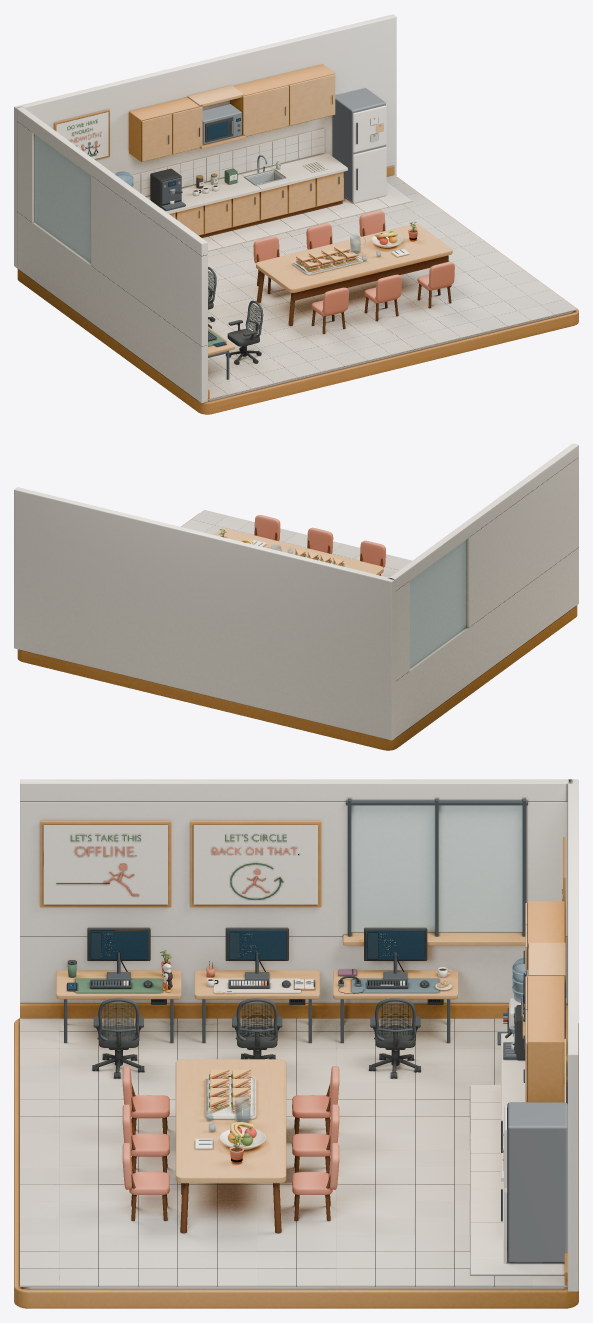
Rendered from corporate-office-baked.glb.
3 views of the same model, one above another, from view 1: azimuth 30°, elevation 25°; view 2: azimuth 150°, elevation 25°; view 3: azimuth 270°, elevation 25° (orthographic). The views are drawn at different scales.
Parts seen in each view (by area): view 1: Baked corporate-office architecture, Baked corporate-office details, Live glass and reflective metal; view 2: Baked corporate-office architecture, Baked corporate-office details; view 3: Baked corporate-office architecture, Baked corporate-office details, Live glass and reflective metal.
Part boxes in pixels (x1,y1,x2,y2): Baked corporate-office architecture: (14,14,578,414); Baked corporate-office details: (67,117,577,399); Live glass and reflective metal: (115,88,404,379); Baked corporate-office architecture: (14,443,578,750); Baked corporate-office details: (181,510,411,577); Baked corporate-office architecture: (14,779,578,1308); Baked corporate-office details: (20,863,567,1286); Live glass and reflective metal: (64,798,567,1262).
Bounding box in the file's own units: 8.96 × 3.86 × 7.76.
11 materials, 2 textured.
